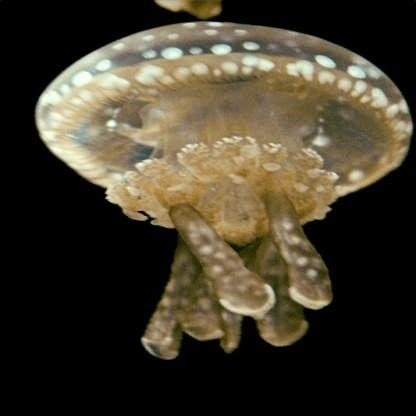LightHouse: (38, 21, 412, 361)
